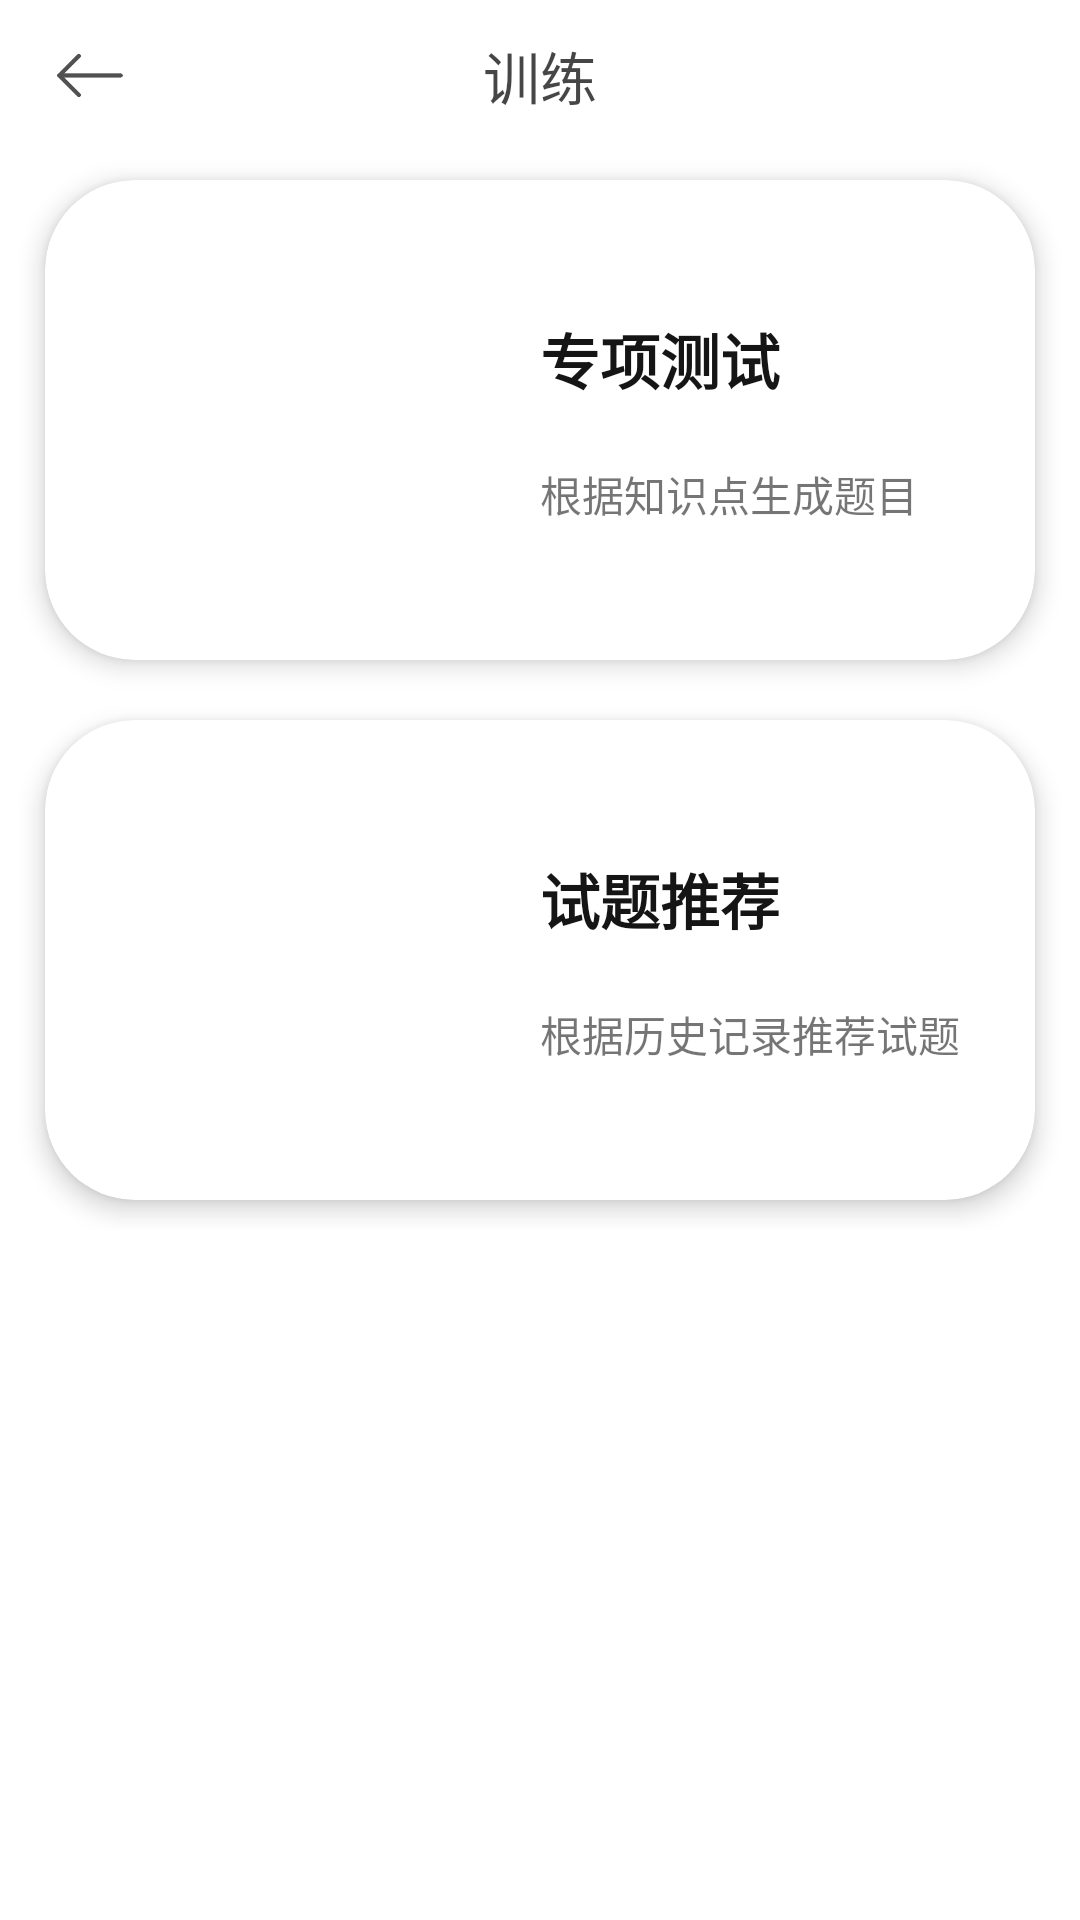

Screen size 1080w x 1920h. Icon name, then its center in pixels as point (x, y):
backward arrow: point (90, 75)
